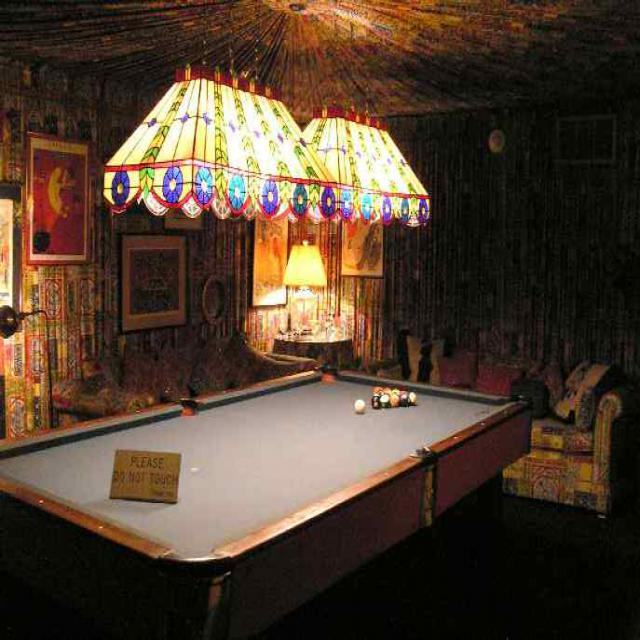billard table: (1, 364, 530, 635)
ceiling beam: (1, 0, 638, 121)
floor -X: (1, 397, 637, 638)
lamp crop: (102, 64, 338, 219), (301, 105, 429, 227), (281, 243, 326, 332)
picture crop: (24, 131, 89, 263), (118, 232, 187, 330), (252, 214, 288, 305)
sing: (109, 448, 180, 501)
sofa: (368, 329, 638, 529), (50, 329, 318, 422)
table runner: (272, 326, 353, 364)
wall clock: (294, 88, 638, 461), (0, 54, 298, 472)
